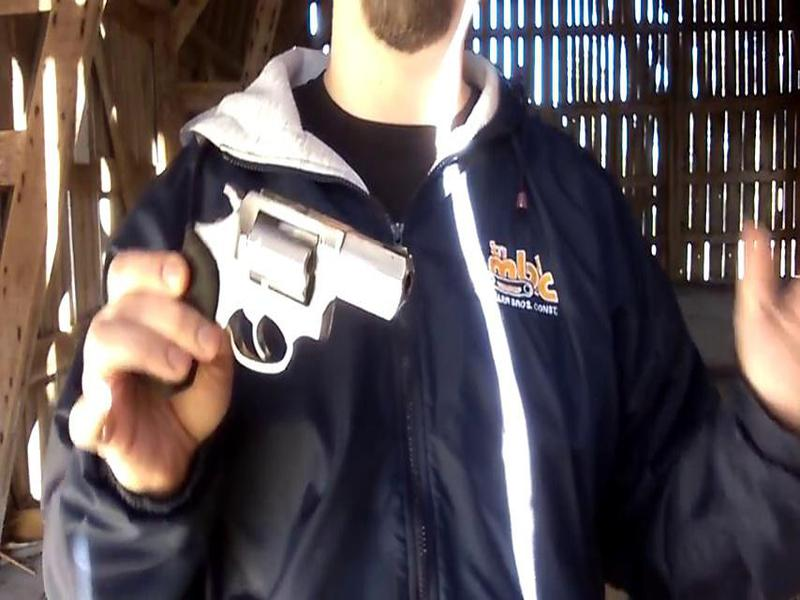Revolver: (154, 164, 427, 433)
